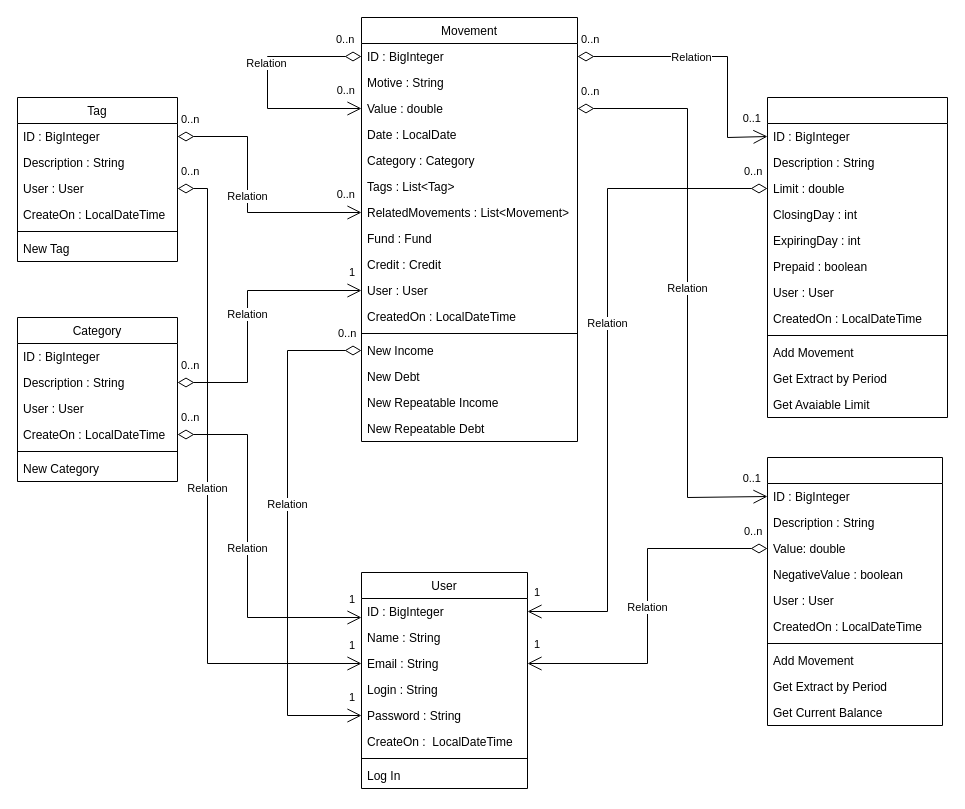
Image size: 965x809. Some labels were removed from this diagram. The box of each missing label's shape, as (x1, y1, x2, y2) in pixels:
Credit: (766, 96, 948, 418)
Funds: (766, 456, 942, 726)
